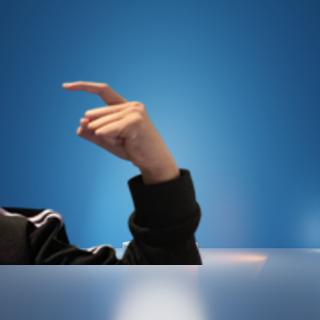WHY: (53, 71, 176, 177)
